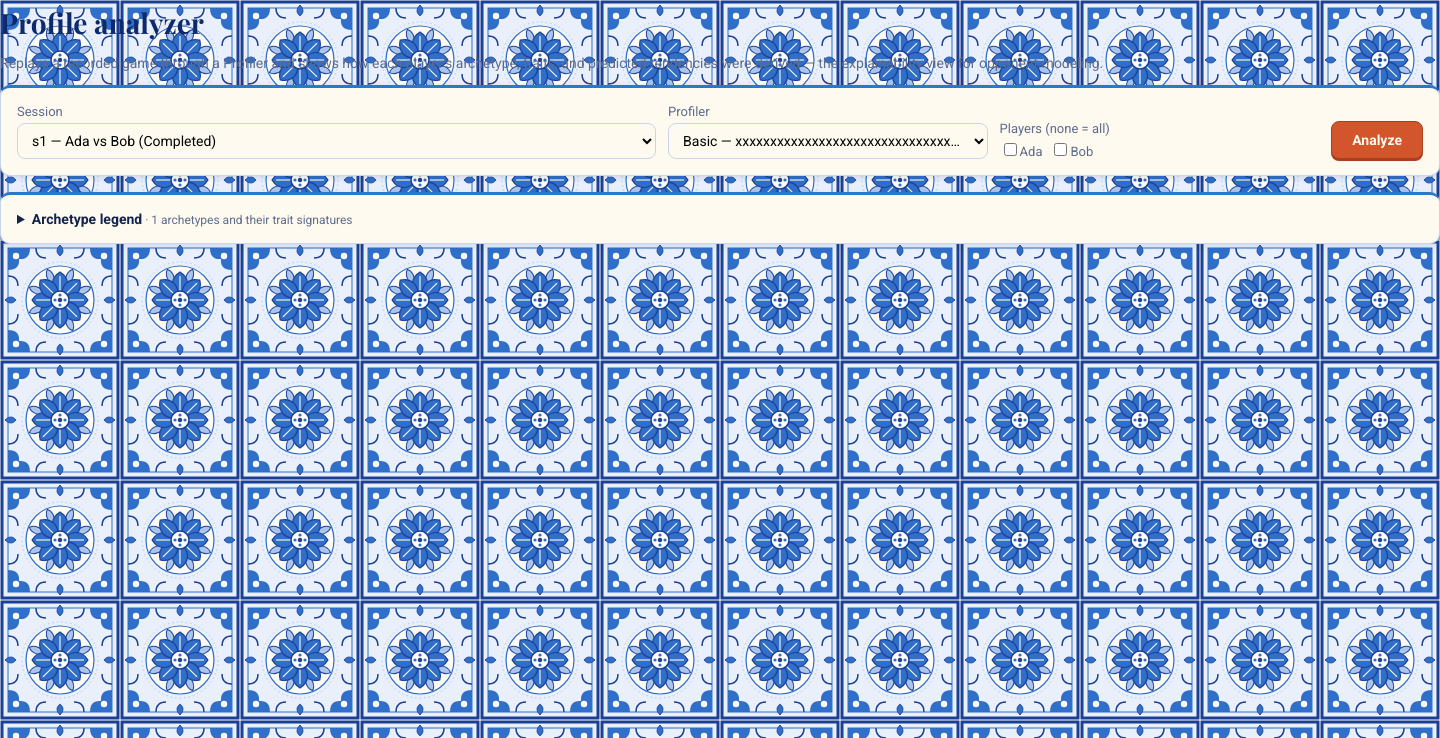
Profiles › analyses a session and shows per-player cards
Check: the heading "Profile analyzer" is shown, box [0,4,204,41]
Click the button "Analyze": (1377, 140) [1331,121,1423,159]
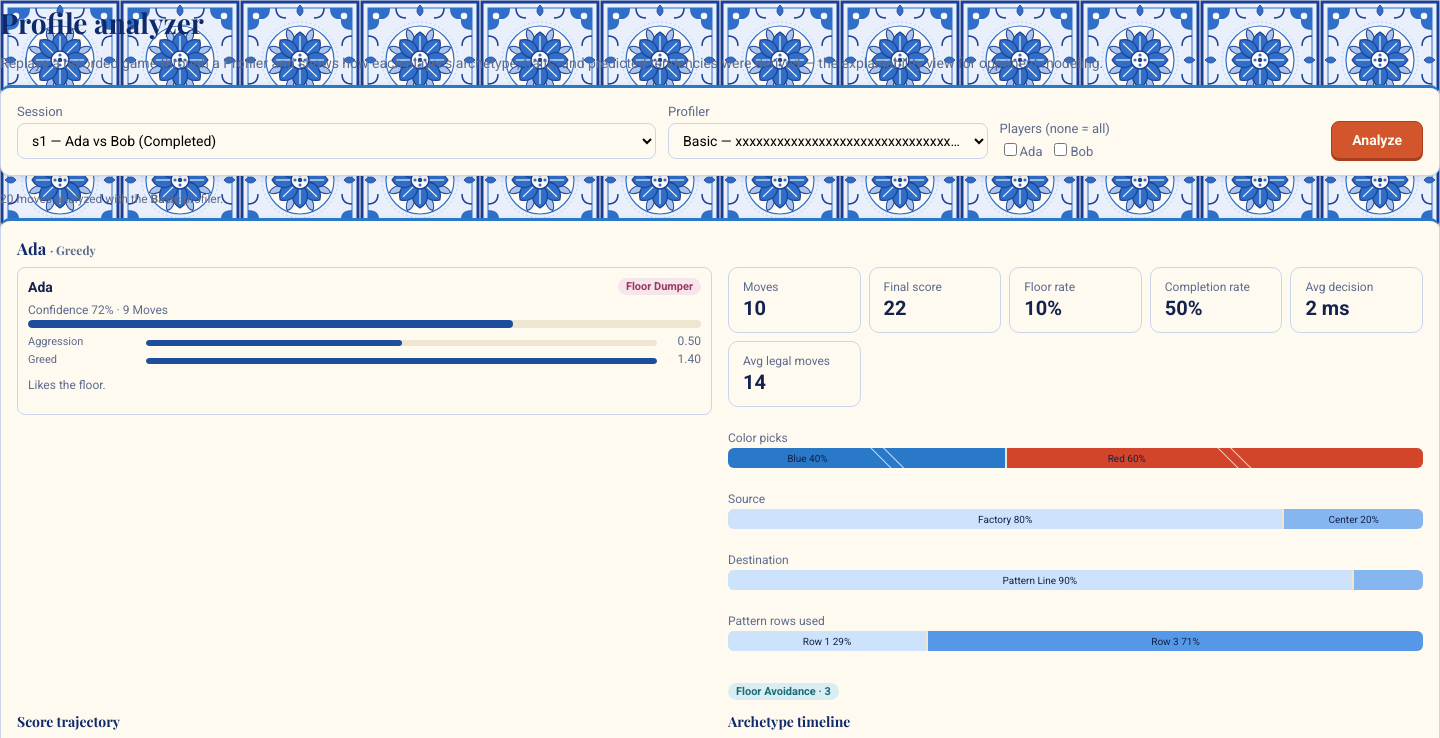
Check: the text "20 moves analyzed with the Basic profiler." is shown, box [0,192,223,206]
Check: the number of headings "Score trajectory" is 2
Check: the text "Floor Avoidance · 3" is shown, box [728,683,839,700]
